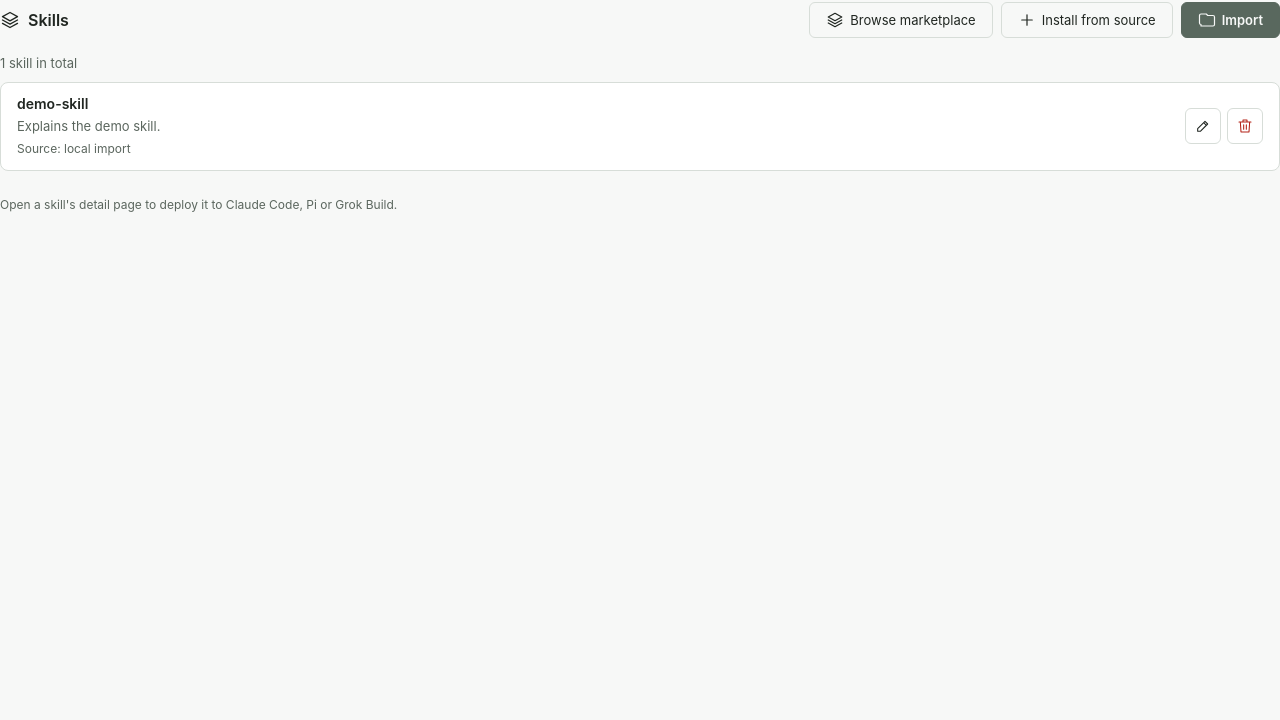
the detail page shows the imported facts
Click the button named "Open details for demo-skill" at (1203, 126), box [1185,108,1221,144]
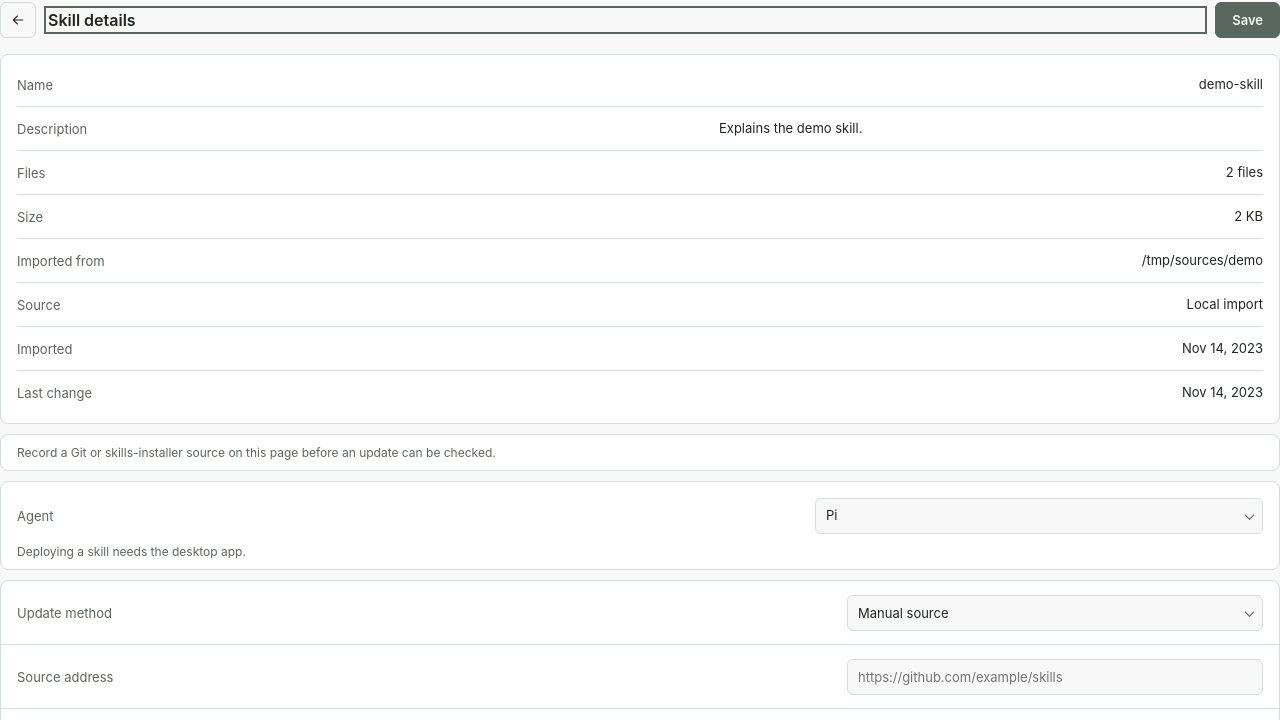
expect the heading "Skill details" is shown: met, box [48,10,136,30]
expect the text "2 files" is shown: met, box [1226,164,1263,180]
expect the text "2 KB" is shown: met, box [1234,208,1263,224]
